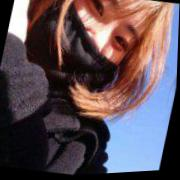WRONG: (30, 1, 149, 108)
